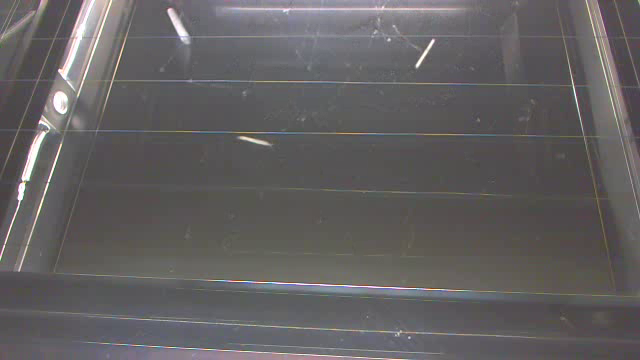alpha: (164, 7, 198, 44), (411, 36, 437, 71), (234, 131, 279, 151)
